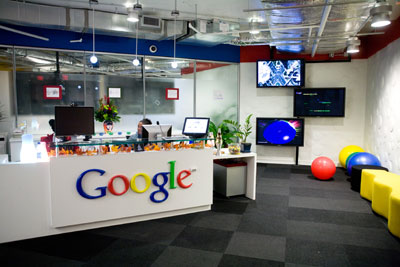google: (71, 157, 207, 205)
